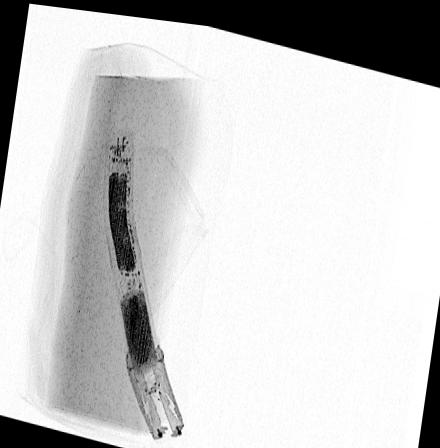Baton: (100, 129, 184, 438)
